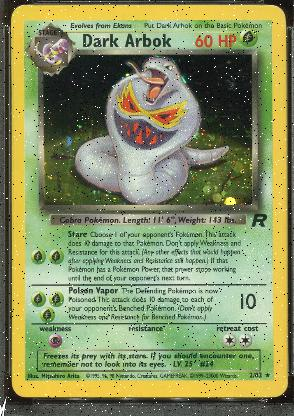Card: (9, 3, 291, 401)
